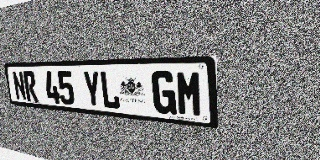4: (44, 71, 61, 104)
5: (57, 71, 75, 105)
G: (151, 70, 177, 115)
L: (99, 71, 121, 110)
M: (176, 70, 203, 117)
N: (12, 71, 27, 101)
R: (23, 71, 39, 102)
Y: (82, 71, 102, 108)
